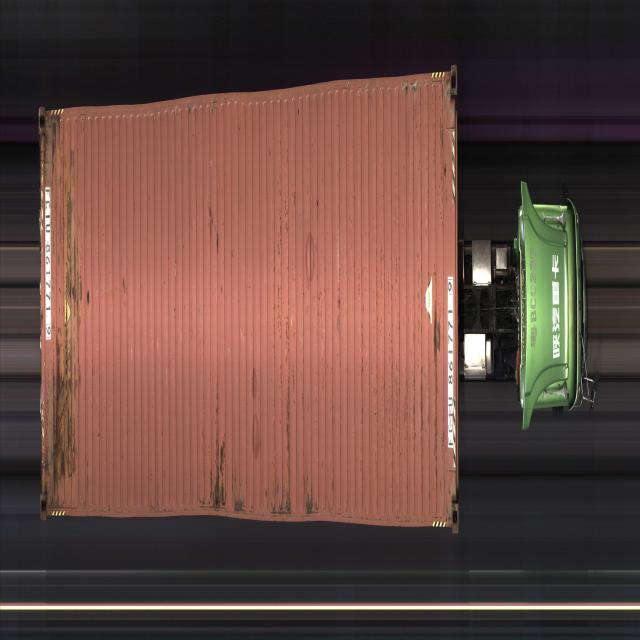rust: (52, 341, 77, 485), (67, 169, 84, 320), (214, 408, 227, 509), (46, 112, 62, 188), (434, 305, 442, 359), (46, 449, 52, 503)
